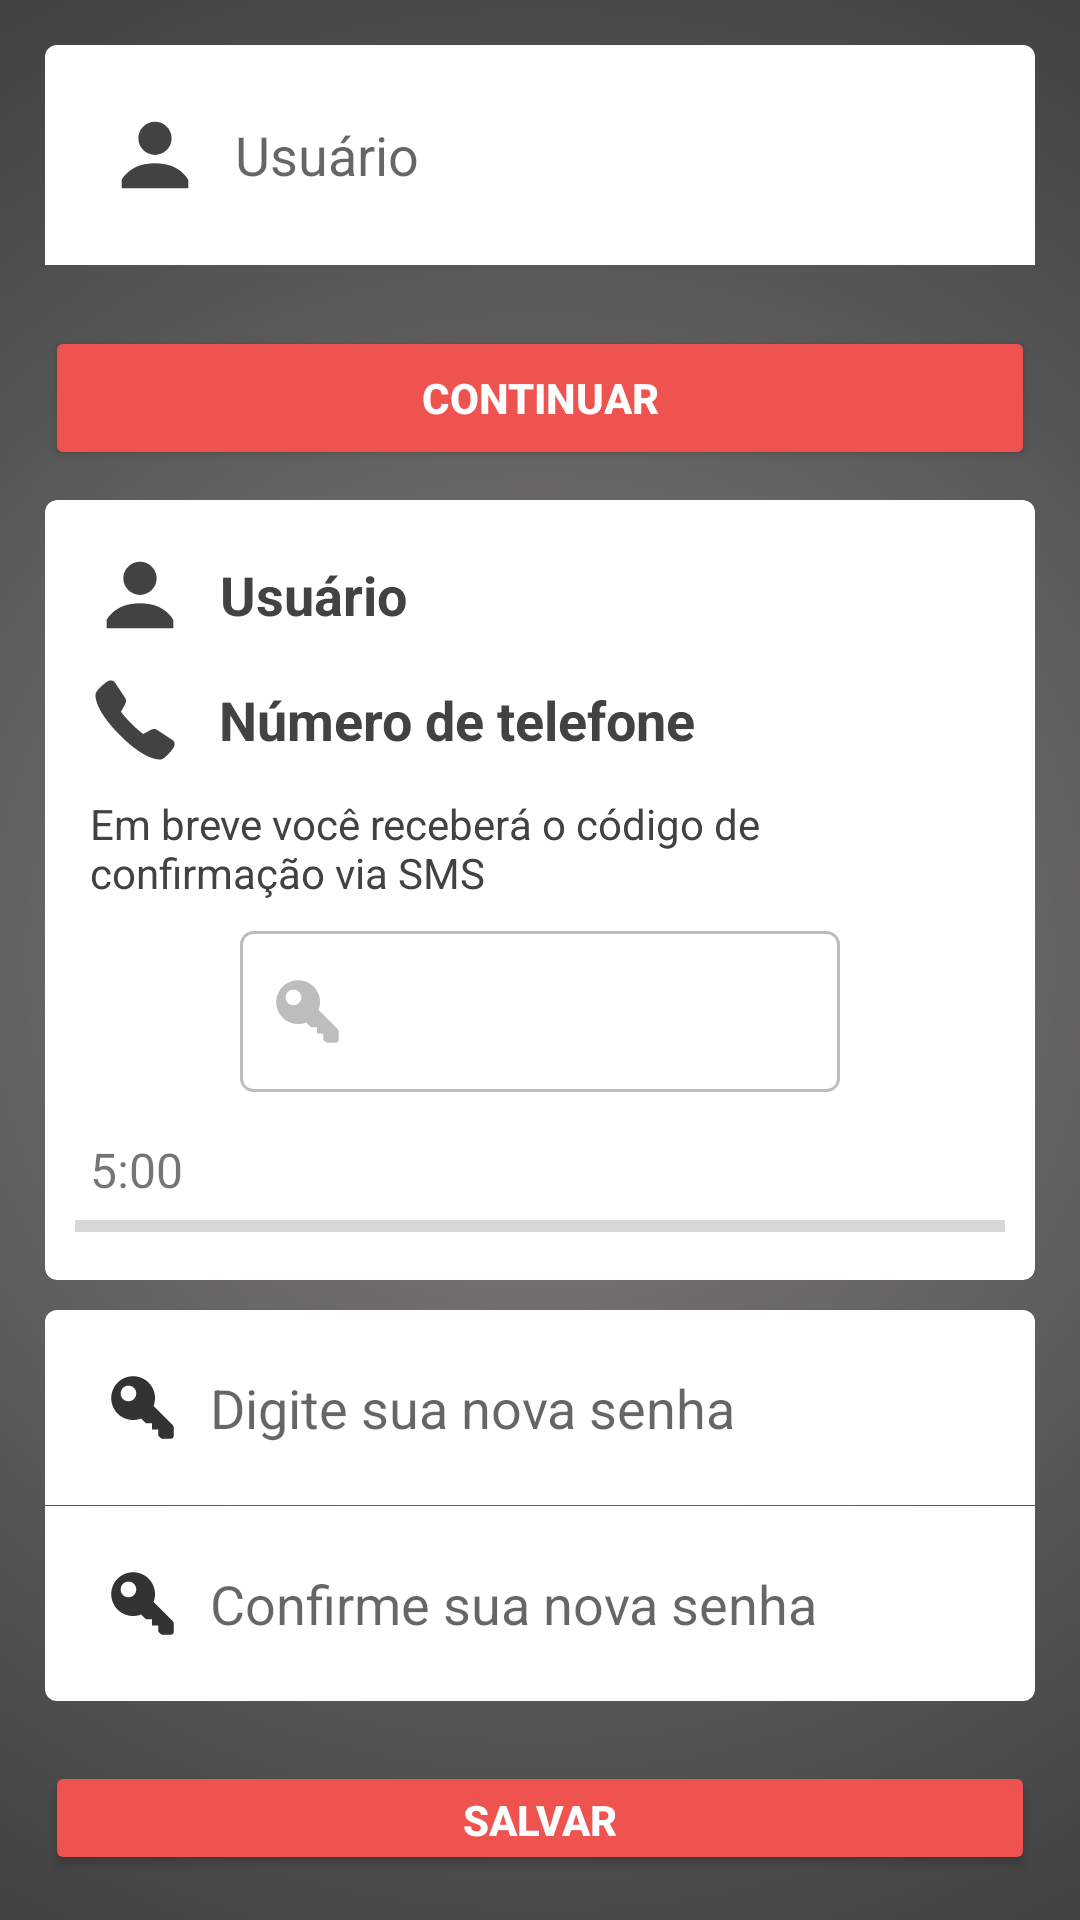

Named icons in this screenshot (1080 × 1920) and their centers, (x=x, y=y):
phone: (x=135, y=720)
